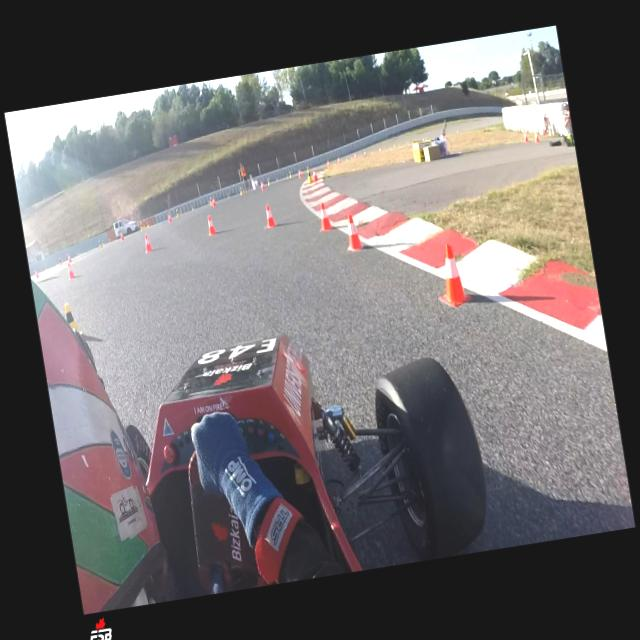orange_cone: (432, 240, 474, 308), (342, 212, 365, 252), (316, 202, 334, 232), (262, 203, 278, 228), (205, 214, 217, 235), (142, 233, 152, 252), (66, 262, 76, 280), (312, 168, 318, 182), (534, 131, 540, 142), (260, 182, 266, 191), (211, 196, 216, 206), (298, 168, 303, 178), (167, 214, 172, 222), (120, 231, 124, 241), (35, 268, 39, 278), (524, 132, 528, 142), (326, 160, 331, 168)
yellow_cone: (64, 300, 84, 338), (306, 171, 313, 184), (139, 220, 144, 231), (239, 186, 244, 195), (176, 208, 180, 218), (209, 196, 213, 206), (267, 178, 271, 186), (99, 240, 102, 248), (289, 172, 292, 178), (147, 222, 150, 227), (102, 240, 104, 244)
